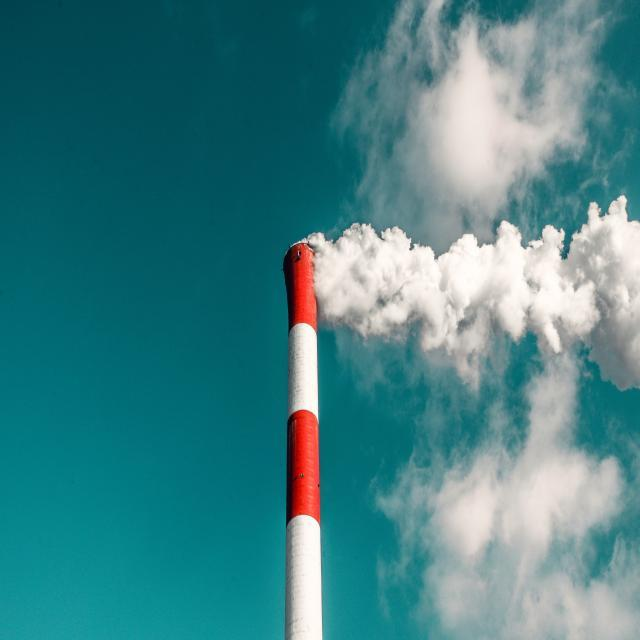Smoke: (325, 214, 639, 358)
